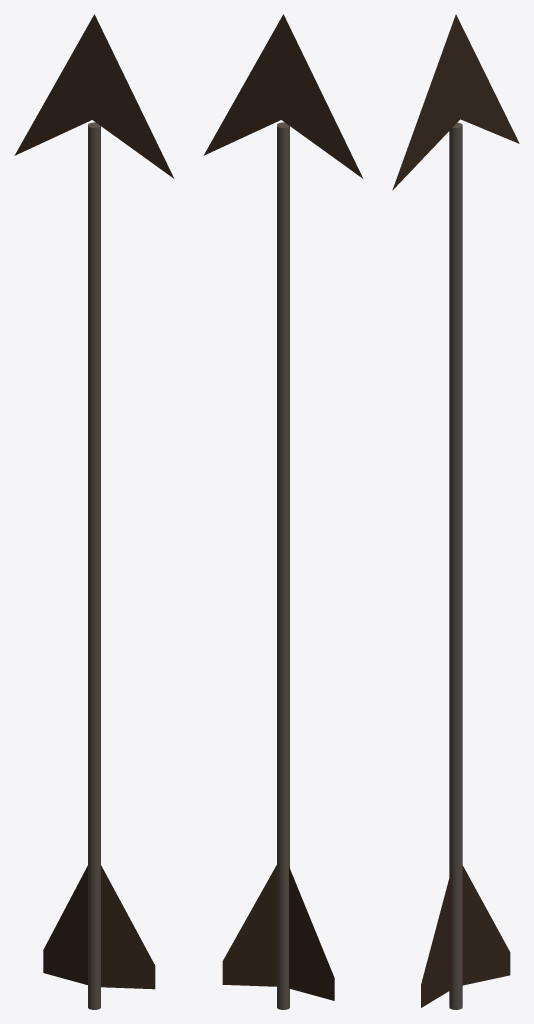
File: carcaj.fbx
3 views of the same model, side by side, from view 1: azimuth 30°, elevation 25°; view 2: azimuth 210°, elevation 25°; view 3: azimuth 270°, elevation 25° (orthographic).
Visible parts, largest first — view 1: Cube; view 2: Cube; view 3: Cube.
Part boxes in pixels (left/top/right/bottom): Cube: left=14, top=14, right=174, bottom=1009; Cube: left=203, top=14, right=363, bottom=1009; Cube: left=392, top=14, right=519, bottom=1009.
Size of the model in its own units: 56.57 by 557 by 64.98.
Materials: 1 (1 with a texture image).
